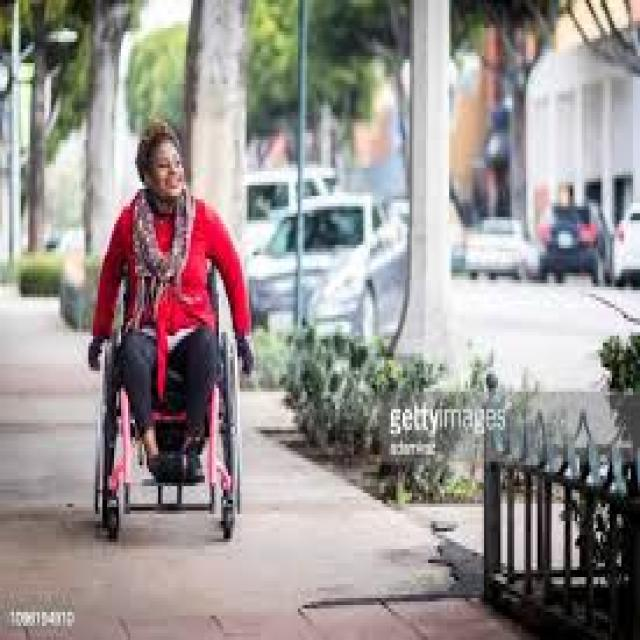wheelchairs: (77, 304, 277, 556)
